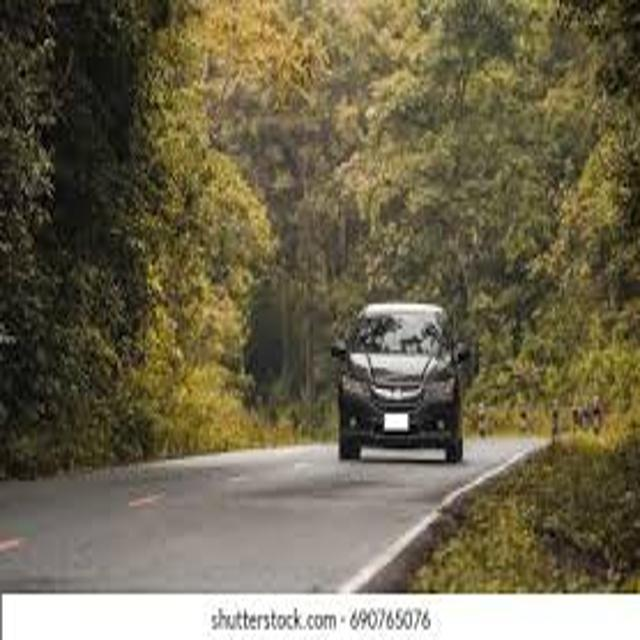car: (332, 304, 469, 462)
